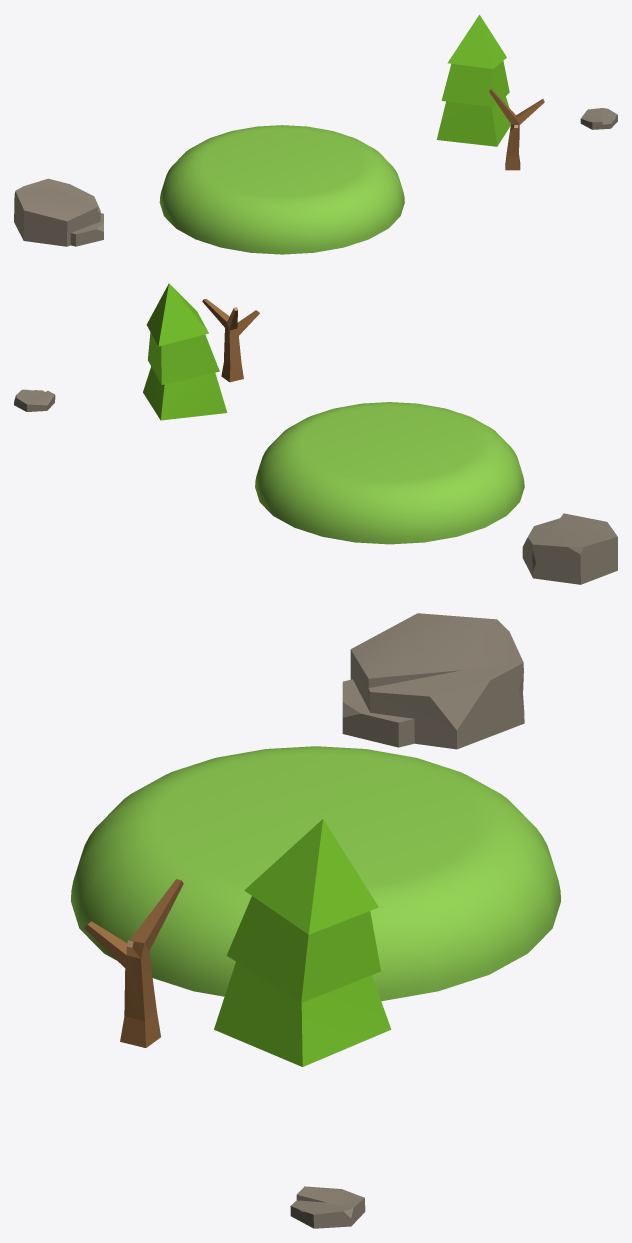
File: files.fbx
3 renders of one model, top to bottom at view 1: azimuth 30°, elevation 25°; view 2: azimuth 150°, elevation 25°; view 3: azimuth 270°, elevation 25°, orthographic. The views are drawn at different scales.
Visible parts, largest first — view 1: Component_131_1, Component_16_1, Component_12_1, Component_14_1, Component_11_1; view 2: Component_131_1, Component_16_1, Component_12_1, Component_14_1, Component_11_1; view 3: Component_131_1, Component_16_1, Component_12_1, Component_14_1, Component_11_1.
Boxes of the visible parts, bbox=[...] form: Component_131_1: bbox=[159, 125, 404, 254]; Component_16_1: bbox=[436, 14, 510, 146]; Component_12_1: bbox=[14, 178, 103, 246]; Component_14_1: bbox=[489, 88, 544, 170]; Component_11_1: bbox=[580, 108, 617, 129]; Component_131_1: bbox=[255, 402, 524, 544]; Component_16_1: bbox=[143, 283, 227, 420]; Component_12_1: bbox=[522, 513, 617, 584]; Component_14_1: bbox=[202, 299, 259, 382]; Component_11_1: bbox=[14, 389, 55, 411]; Component_131_1: bbox=[71, 746, 560, 1001]; Component_16_1: bbox=[214, 819, 391, 1066]; Component_12_1: bbox=[342, 613, 524, 749]; Component_14_1: bbox=[84, 879, 183, 1047]; Component_11_1: bbox=[290, 1186, 365, 1228].
Size of the model in its own units: 13.39 by 3.12 by 5.
